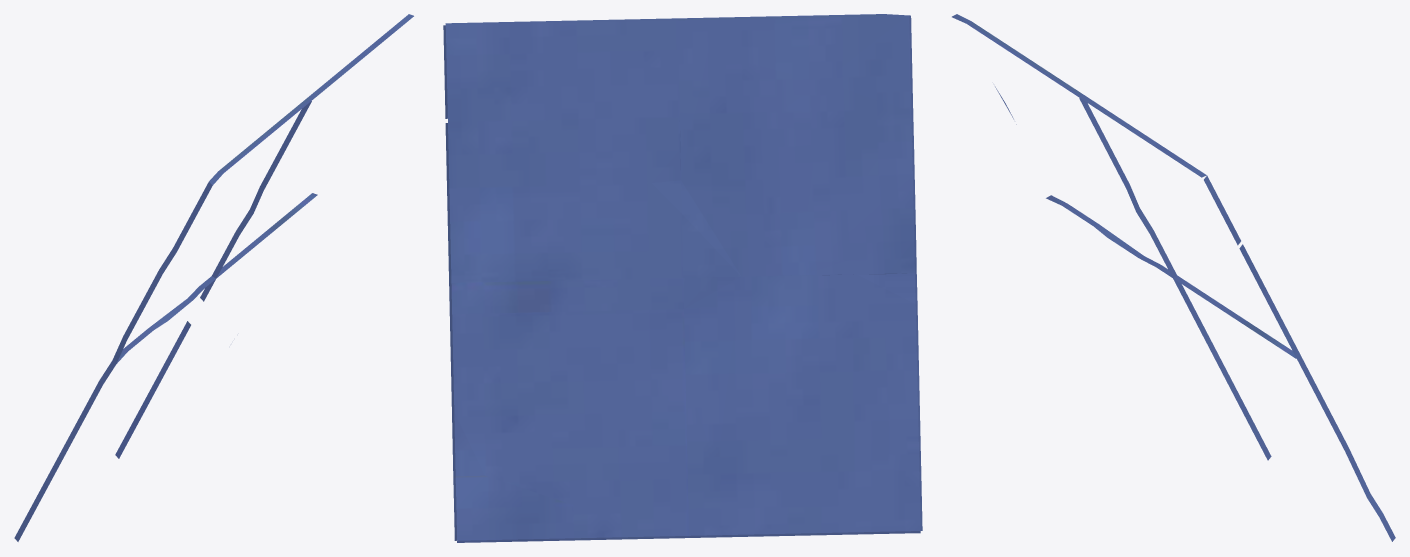
The picture shows the model from 3 angles, left to right: view 1: azimuth 30°, elevation 25°; view 2: azimuth 150°, elevation 25°; view 3: azimuth 270°, elevation 25°; orthographic projection. The views are drawn at different scales.
Bounding box in the file's own units: 39384 × 35523 × 34240.
Materials: 1 (1 with a texture image).
